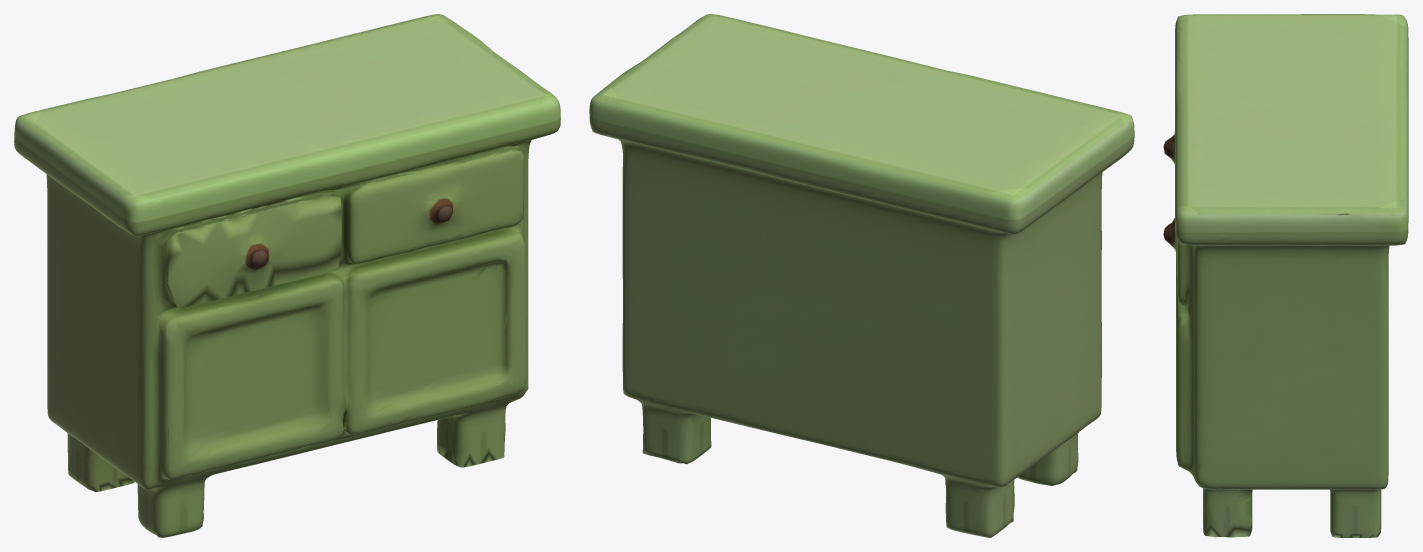
File: GreenCabinet.glb
3 renders of one model, left to right at view 1: azimuth 30°, elevation 25°; view 2: azimuth 150°, elevation 25°; view 3: azimuth 270°, elevation 25°, orthographic. The views are drawn at different scales.
Size of the model in its own units: 1.91 by 1.52 by 0.9775.
Materials: 1 (1 with a texture image).
